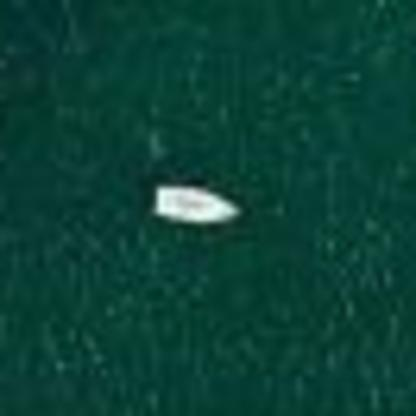ship: (146, 176, 248, 232)
